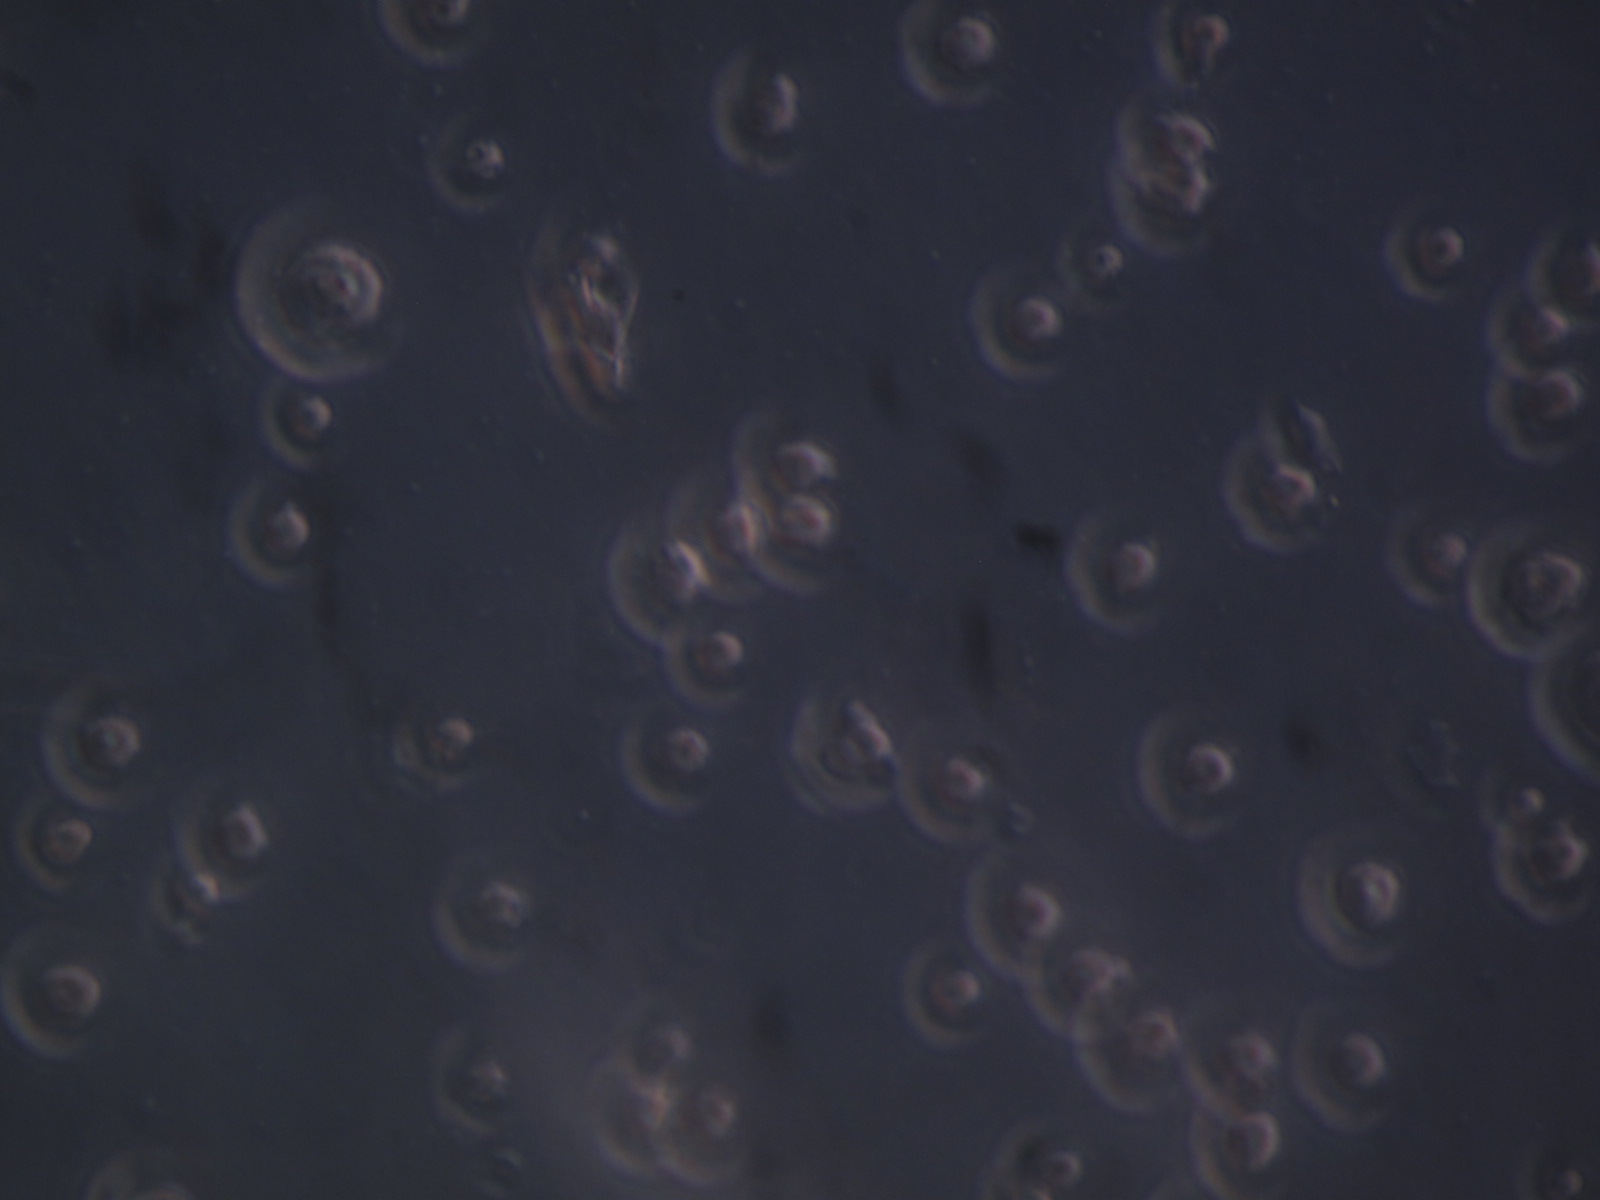hemo: (234, 200, 397, 383), (1469, 522, 1581, 661), (1300, 826, 1402, 971), (1131, 708, 1249, 833), (42, 679, 150, 812), (669, 464, 769, 608), (1072, 984, 1178, 1119), (606, 511, 707, 648), (791, 695, 903, 814), (1290, 1003, 1395, 1131), (171, 770, 266, 904), (1, 932, 101, 1056), (430, 857, 534, 976), (716, 38, 803, 176), (1063, 509, 1158, 635), (1225, 429, 1322, 551), (585, 1053, 678, 1179), (1487, 816, 1592, 926), (733, 405, 845, 505), (743, 489, 849, 595), (968, 861, 1058, 984), (1020, 932, 1121, 1042), (968, 272, 1070, 381), (903, 933, 995, 1053), (898, 1, 1009, 100), (654, 1079, 748, 1191), (1495, 362, 1597, 465), (624, 707, 714, 819), (428, 1018, 511, 1136), (1110, 159, 1209, 256), (1187, 1008, 1274, 1119), (901, 742, 993, 846), (226, 482, 316, 585), (1382, 197, 1466, 303), (433, 107, 517, 213), (1383, 500, 1468, 604), (1187, 1103, 1277, 1199), (1522, 227, 1600, 337), (1057, 219, 1141, 319), (1114, 91, 1214, 174), (1487, 279, 1567, 379), (396, 700, 481, 792), (9, 798, 91, 891), (260, 378, 339, 469), (997, 1121, 1089, 1197), (671, 626, 752, 713), (1150, 1, 1230, 88), (379, 1, 483, 66), (624, 1000, 687, 1098), (154, 848, 215, 945), (1487, 770, 1553, 848)
